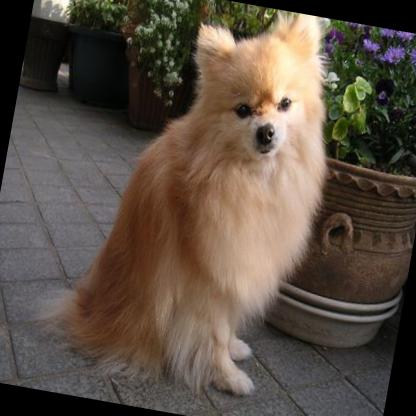Pomeranian: (22, 0, 352, 409)
